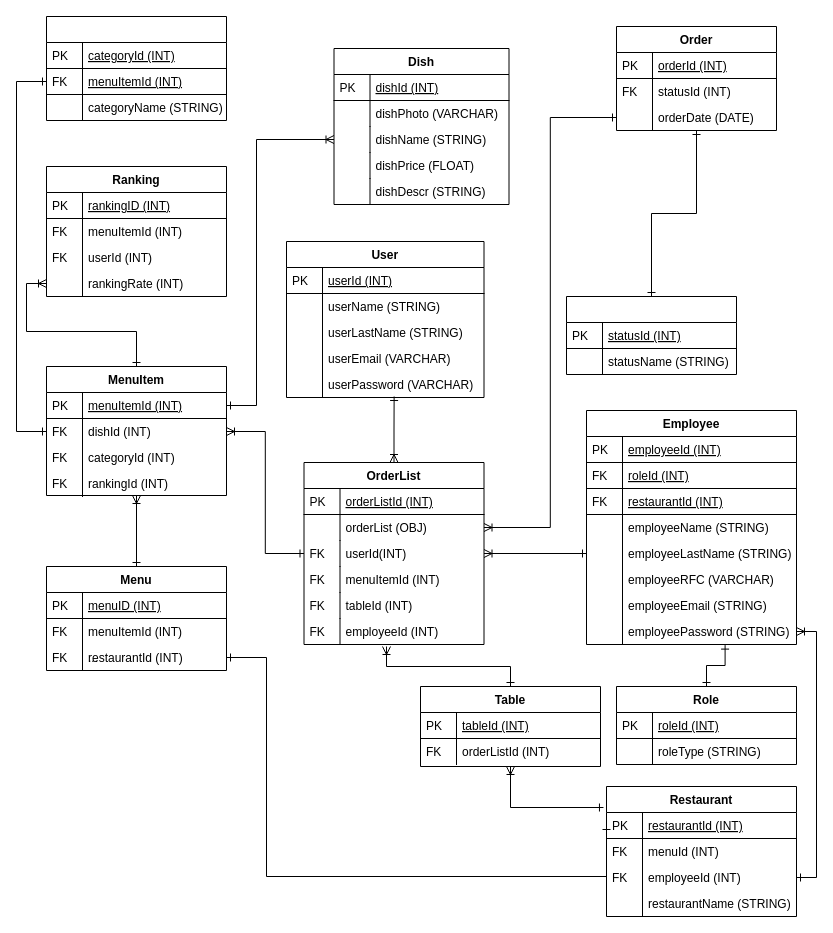
This 833x933 diagram has some shape labels left out. Here are the shapes that lost their labels. From the top down, the box of each, then its label:
(46, 16, 226, 120): Categorie
(566, 296, 736, 374): OrderStatus
